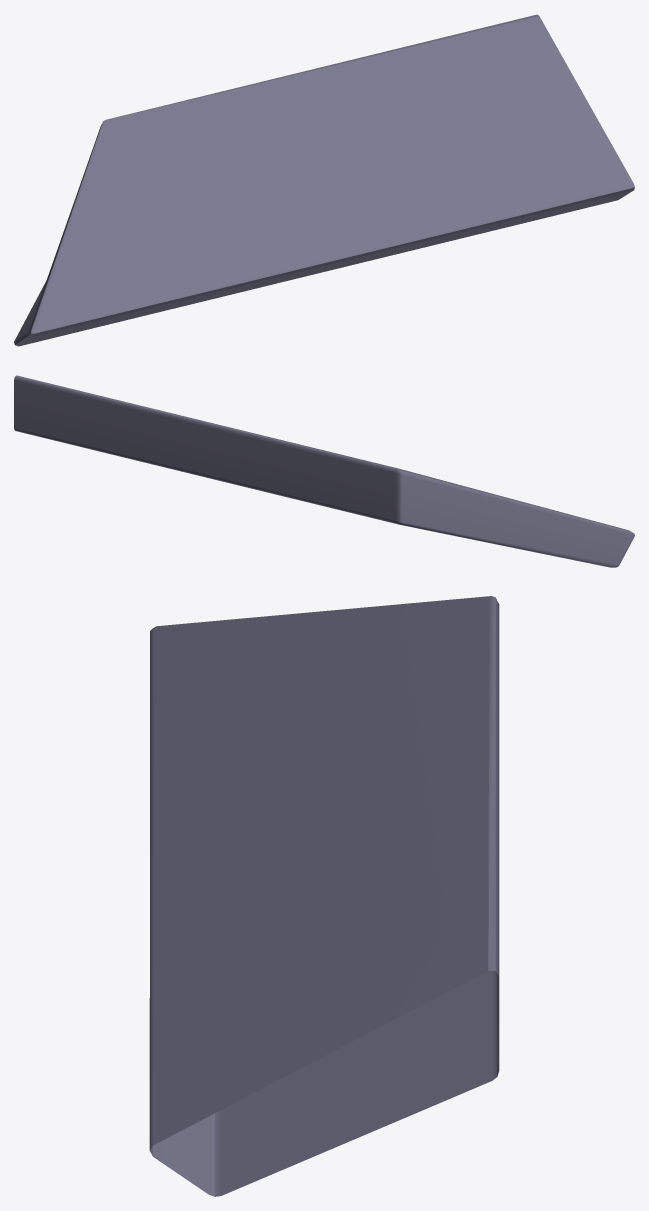
Rendered from SM_BalconyThingL.fbx.
3 views of the same model, one above another, from view 1: azimuth 30°, elevation 25°; view 2: azimuth 150°, elevation 25°; view 3: azimuth 270°, elevation 25° (orthographic). The views are drawn at different scales.
Parts seen in each view (by area): view 1: pCube11; view 2: pCube11; view 3: pCube11.
Part boxes in pixels (box(x1,y1,x2,y2)): pCube11: box(14, 14, 634, 346); pCube11: box(14, 375, 634, 567); pCube11: box(149, 596, 499, 1196).
Bounding box in the file's own units: 348 × 70.34 × 98.29.
